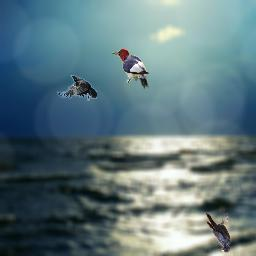Crow: (57, 75, 97, 101), (206, 213, 230, 253)
Woodpecker: (112, 49, 149, 89)
